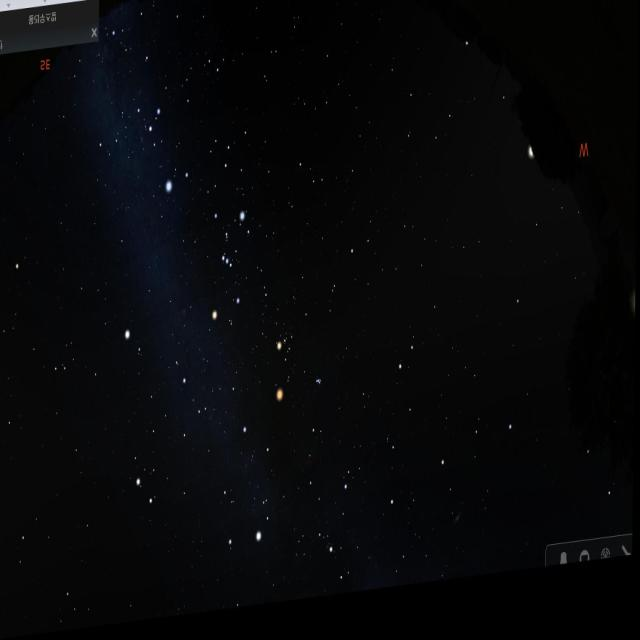canis_major: (135, 106, 190, 221)
canis_minor: (125, 320, 147, 366)
gemini: (136, 363, 216, 521)
orion: (204, 205, 252, 327)
pleiades: (313, 377, 328, 398)
taurus: (270, 313, 334, 412)
